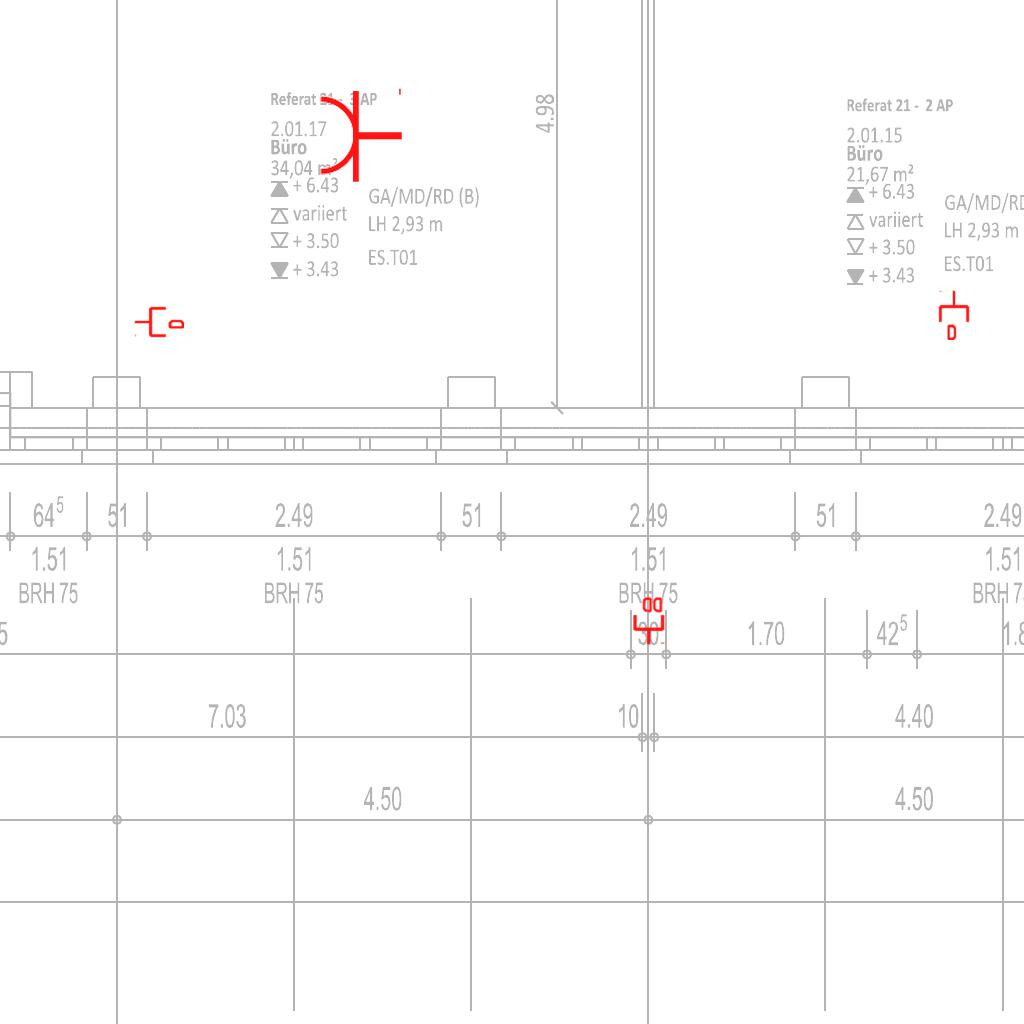Datenanschluss_einfach: (134, 305, 184, 339), (937, 290, 971, 340)
Datenanschluss_zweifach: (631, 595, 665, 646)
Schukosteckdose_einfach: (317, 84, 404, 184)
